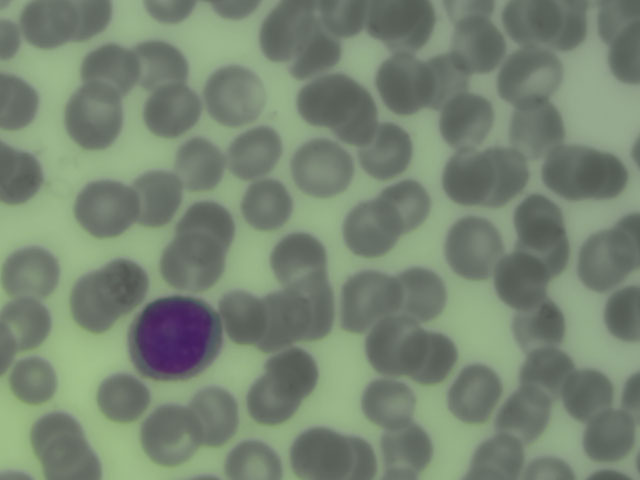RBC: (597, 15, 640, 90), (450, 218, 505, 275), (1, 71, 47, 132), (18, 1, 76, 48), (241, 180, 294, 229), (520, 227, 573, 276), (511, 195, 564, 244), (575, 150, 628, 199), (544, 147, 597, 196), (481, 152, 534, 201), (442, 153, 495, 202), (511, 99, 564, 148), (505, 50, 558, 99), (440, 95, 493, 144), (419, 53, 472, 102), (377, 56, 430, 105), (453, 17, 506, 66), (298, 142, 351, 191), (357, 126, 410, 175), (300, 70, 353, 119), (164, 238, 217, 287), (128, 172, 181, 221), (208, 71, 261, 120), (143, 85, 196, 134), (132, 38, 185, 87), (186, 391, 239, 440), (143, 408, 196, 457), (94, 372, 147, 421), (78, 180, 131, 229), (70, 277, 123, 326), (31, 411, 84, 460), (7, 354, 60, 403), (4, 248, 57, 297), (69, 90, 122, 139), (82, 45, 135, 94), (587, 414, 640, 463), (576, 235, 629, 284), (563, 368, 616, 417), (522, 349, 575, 398), (513, 302, 566, 351), (492, 254, 545, 303), (405, 332, 458, 381), (369, 325, 422, 374), (395, 267, 448, 316), (345, 276, 398, 325), (275, 238, 328, 287), (262, 296, 315, 345), (214, 292, 267, 341), (344, 202, 397, 251), (378, 182, 431, 231), (498, 389, 551, 438), (178, 196, 231, 245), (228, 126, 281, 175), (167, 137, 220, 186), (360, 376, 413, 425), (328, 431, 381, 480), (293, 431, 346, 480), (452, 371, 505, 420), (333, 91, 383, 142), (1, 299, 53, 348), (377, 1, 430, 49), (262, 1, 315, 49), (472, 431, 525, 479), (380, 431, 433, 479), (508, 1, 567, 41), (228, 439, 284, 479), (1, 150, 42, 203), (315, 1, 373, 37), (45, 439, 97, 479), (106, 256, 147, 306), (609, 211, 640, 270), (605, 292, 640, 338), (442, 1, 500, 26), (147, 1, 201, 26), (524, 452, 572, 480), (66, 1, 111, 30)
WBC: (130, 294, 219, 383)
